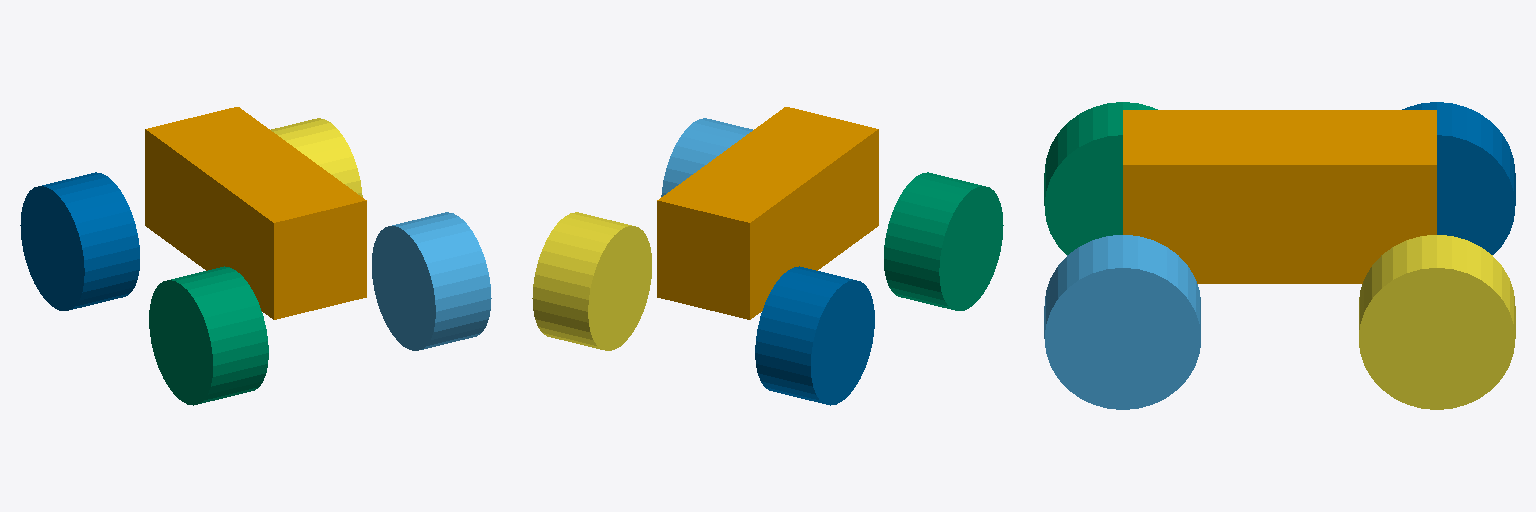
URDF robot description (myfirst):
<?xml version="1.0"?>
<robot name="myfirst">
    <link name="base_link">
      <visual>
        <geometry>
          <box size="0.1 0.24 0.1"/>
        </geometry>
      </visual>
    </link>

    <link name="right_rear_wheel">
      <visual>
        <geometry>
          <cylinder length ="0.06" radius="0.06"/>
        </geometry>
        <origin rpy="0 1.57075 0"/>
      </visual>
    </link>

    <joint name="base_to_right_rear_wheel" type="continuous">
      <parent link="base_link"/>
      <child link="right_rear_wheel"/>
      <origin xyz="0.12 -0.12 -0.05"/>
    </joint>

    <link name="left_rear_wheel">
      <visual>
        <geometry>
          <cylinder length ="0.06" radius="0.06"/>
        </geometry>
        <origin rpy="0 -1.57075 0"/>
      </visual>
    </link>
 
    <joint name="base_to_left_rear_wheel" type="continuous">
      <parent link="base_link"/>
      <child link="left_rear_wheel"/>
      <origin xyz="-0.12 -0.12 -0.05"/>
    </joint>









    <link name="right_front_wheel">
      <visual>
        <geometry>
          <cylinder length ="0.06" radius="0.06"/>
        </geometry>
        <origin rpy="0 1.57075 0"/>
      </visual>
    </link>
 
    <joint name="base_to_right_front_wheel" type="continuous">
      <parent link="base_link"/>
      <child link="right_front_wheel"/>
      <origin xyz="0.12 0.12 -0.05"/>
    </joint>

    <link name="left_front_wheel">
      <visual>
        <geometry>
          <cylinder length ="0.06" radius="0.06"/>
        </geometry>
        <origin rpy="0 -1.57075 0"/>
      </visual>
    </link>
 
    <joint name="base_to_left_front_wheel" type="continuous">
      <parent link="base_link"/>
      <child link="left_front_wheel"/>
      <origin xyz="-0.12 0.12 -0.05"/>
    </joint>

</robot>

--- Render facts (derived) ---
3 views of the same robot in one strip: view 1: azimuth 30°, elevation 25°; view 2: azimuth 150°, elevation 25°; view 3: azimuth 270°, elevation 25° (orthographic).
Robot: myfirst — 5 links, 4 joints (4 continuous); root link base_link; default pose: all joints at 0.
Links seen in each view (by area): view 1: base_link, left_rear_wheel, right_rear_wheel, left_front_wheel, right_front_wheel; view 2: base_link, left_front_wheel, right_front_wheel, left_rear_wheel, right_rear_wheel; view 3: base_link, right_rear_wheel, right_front_wheel, left_rear_wheel, left_front_wheel.
Link boxes in pixels (x1=…): base_link: x1=145, y1=107, x2=366, y2=319; left_rear_wheel: x1=149, y1=266, x2=268, y2=405; right_rear_wheel: x1=372, y1=212, x2=491, y2=350; left_front_wheel: x1=20, y1=172, x2=139, y2=310; right_front_wheel: x1=271, y1=118, x2=362, y2=196; base_link: x1=657, y1=107, x2=878, y2=319; left_front_wheel: x1=755, y1=266, x2=874, y2=405; right_front_wheel: x1=532, y1=212, x2=651, y2=350; left_rear_wheel: x1=884, y1=172, x2=1003, y2=310; right_rear_wheel: x1=661, y1=118, x2=752, y2=196; base_link: x1=1123, y1=110, x2=1436, y2=283; right_rear_wheel: x1=1044, y1=235, x2=1200, y2=409; right_front_wheel: x1=1359, y1=235, x2=1515, y2=409; left_rear_wheel: x1=1044, y1=102, x2=1157, y2=254; left_front_wheel: x1=1402, y1=102, x2=1515, y2=254.
Size in the robot's own frame: 0.3 by 0.36 by 0.16 metres.
Geometry: primitives only (box / cylinder / sphere), no mesh files.
